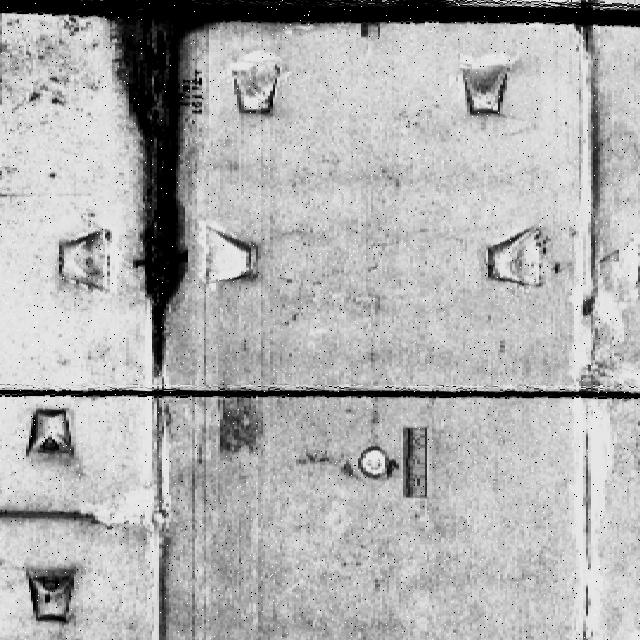leakage: (96, 0, 204, 374)
